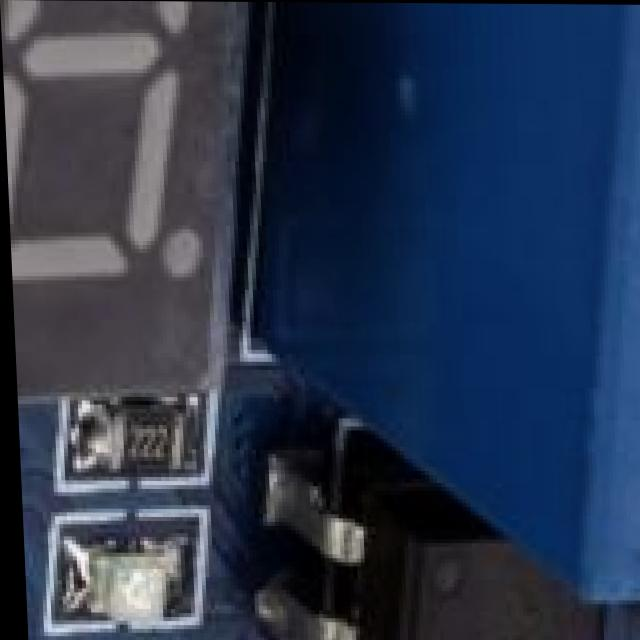IC: (228, 453, 570, 640)
LED: (42, 518, 190, 621)
display: (0, 0, 234, 401)
relay: (484, 3, 640, 576)
resistor: (74, 402, 221, 497)
